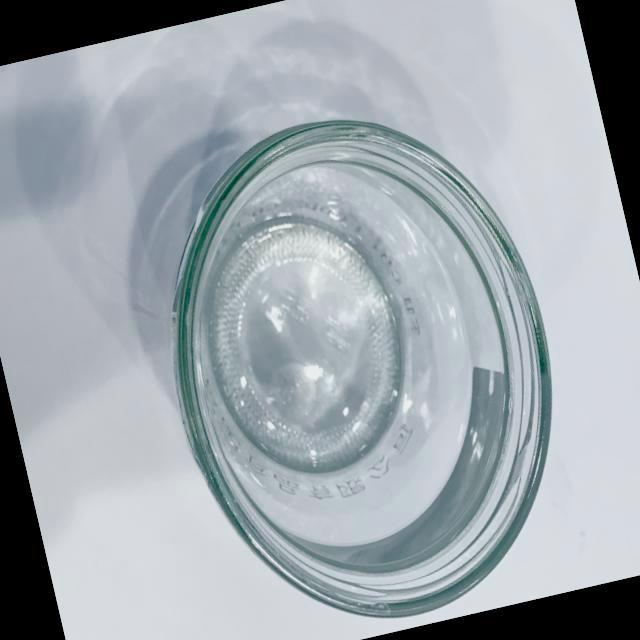glass: (107, 71, 605, 640)
